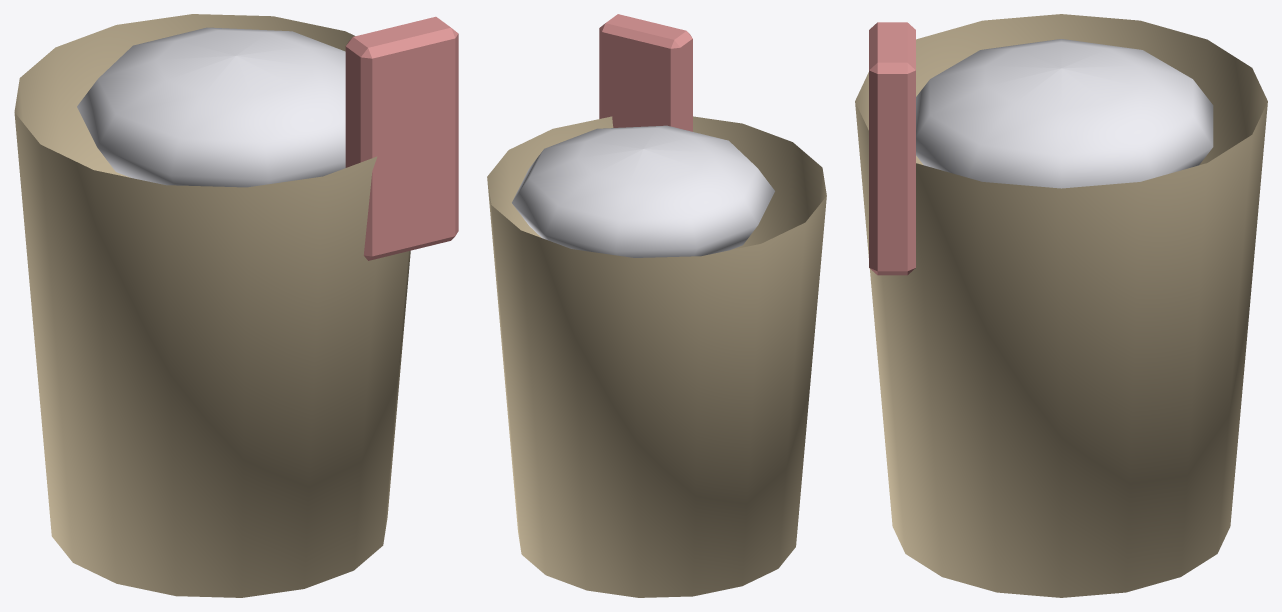
File: laundry_basket.glb
The picture shows the model from 3 angles, left to right: view 1: azimuth 30°, elevation 25°; view 2: azimuth 150°, elevation 25°; view 3: azimuth 270°, elevation 25°; orthographic projection. The views are drawn at different scales.
Visible parts, largest first — view 1: laundry_basket; view 2: laundry_basket; view 3: laundry_basket.
Boxes of the visible parts, <box> form: laundry_basket: <box>14,14,458,597</box>; laundry_basket: <box>487,14,826,597</box>; laundry_basket: <box>855,14,1267,597</box>.
Bounding box in the file's own units: 0.44 × 0.625 × 0.44.
